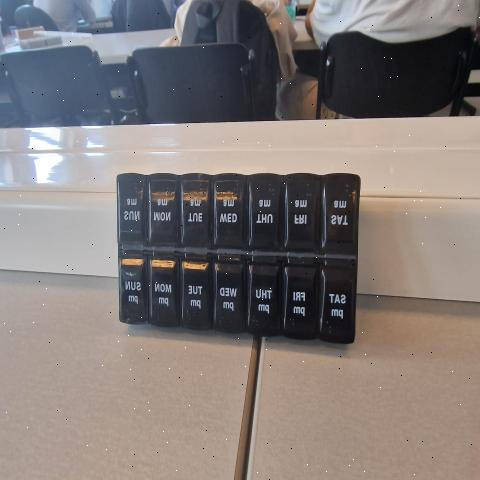PillBox: (86, 160, 370, 349)
